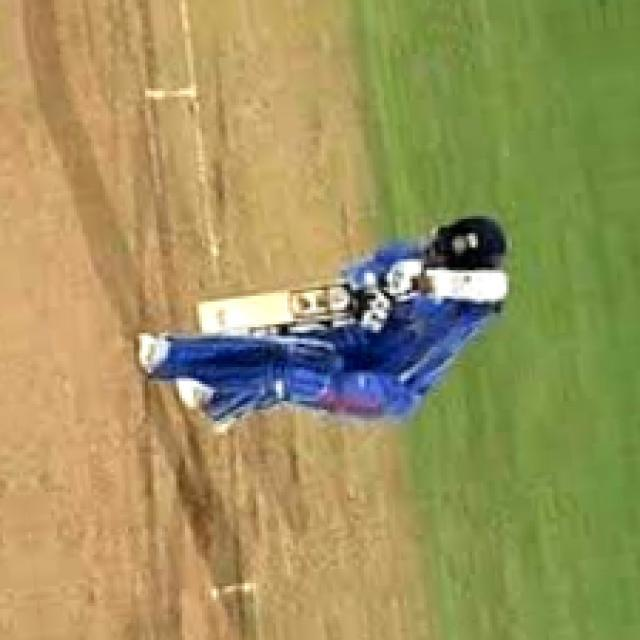bat: (197, 278, 376, 337)
toe: (192, 298, 212, 336)
